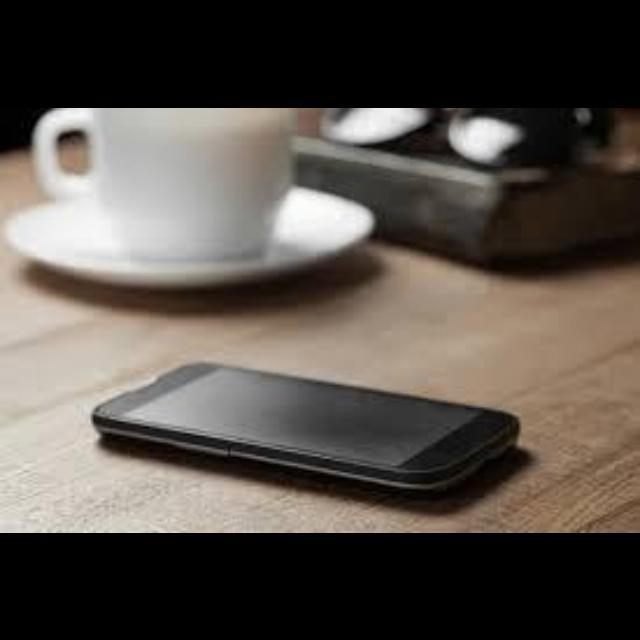phone: (91, 363, 542, 509)
